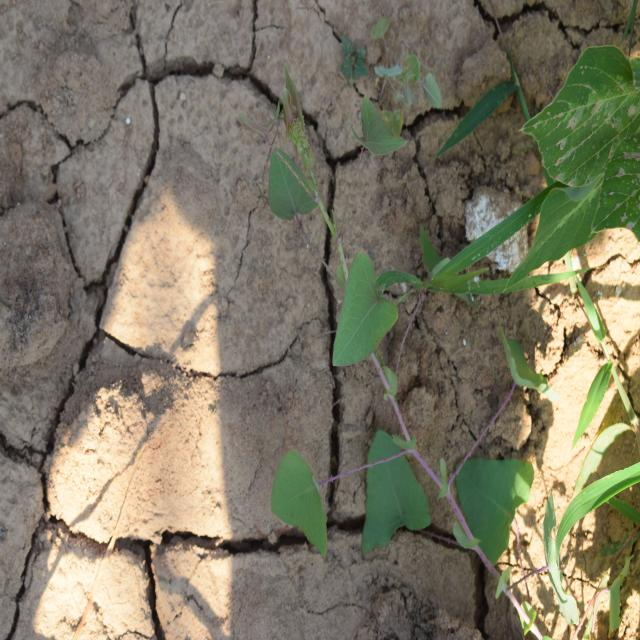Asiatic_Smartweed: (261, 96, 414, 411), (254, 404, 427, 564)
